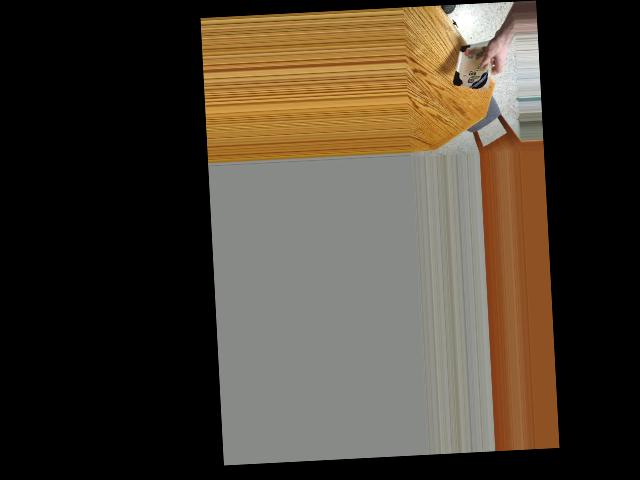cheese: (454, 35, 493, 93)
